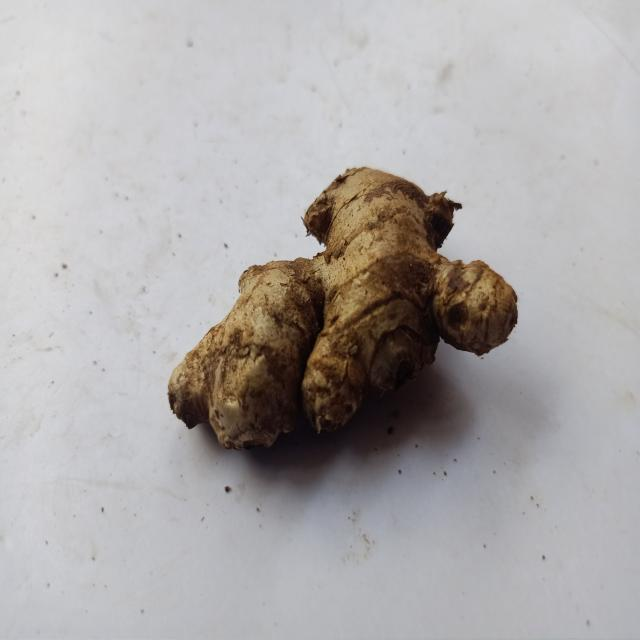Ginger: (168, 167, 518, 449)
